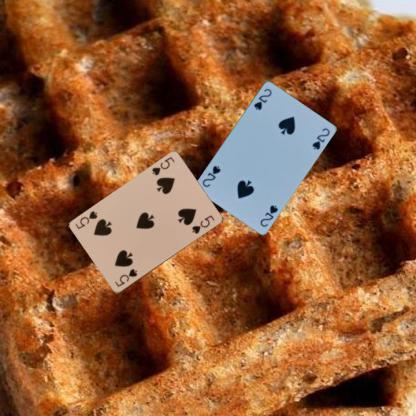2s: (251, 85, 273, 111), (258, 202, 279, 228)
5s: (149, 154, 176, 177), (112, 266, 139, 288)
